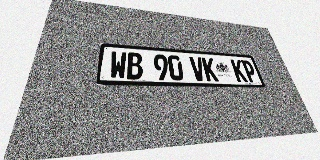0: (167, 55, 184, 81)
9: (153, 54, 170, 80)
B: (127, 52, 143, 80)
K: (201, 57, 219, 81), (230, 59, 248, 82)
P: (241, 60, 259, 82)
V: (189, 56, 206, 81)
W: (109, 51, 126, 79)
